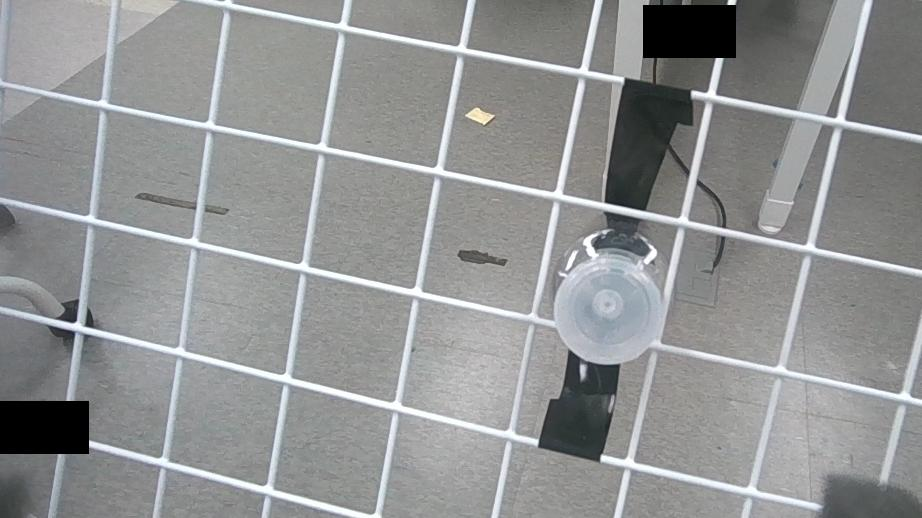Cap: (552, 253, 667, 364)
